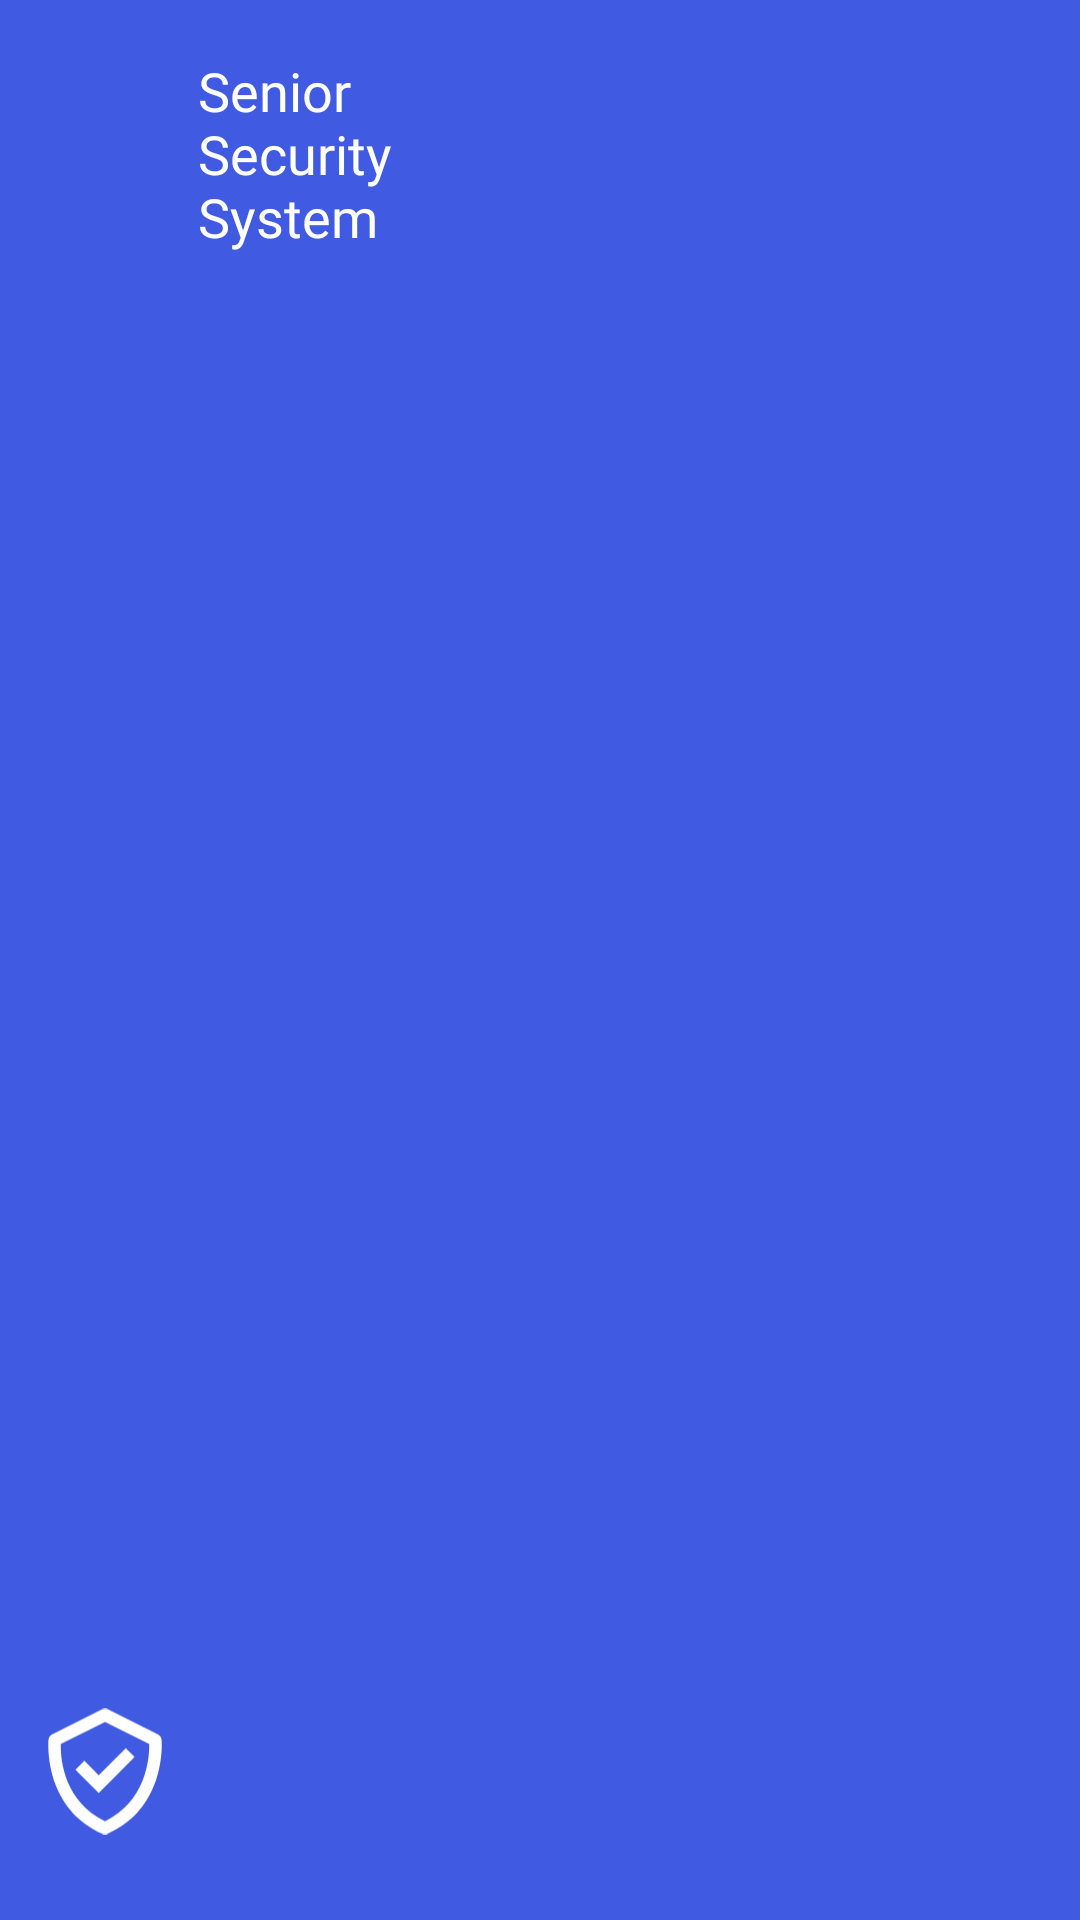

Named icons in this screenshot (1080px×1920px) and their centers, [x,y]:
check shield: [105,1771]
